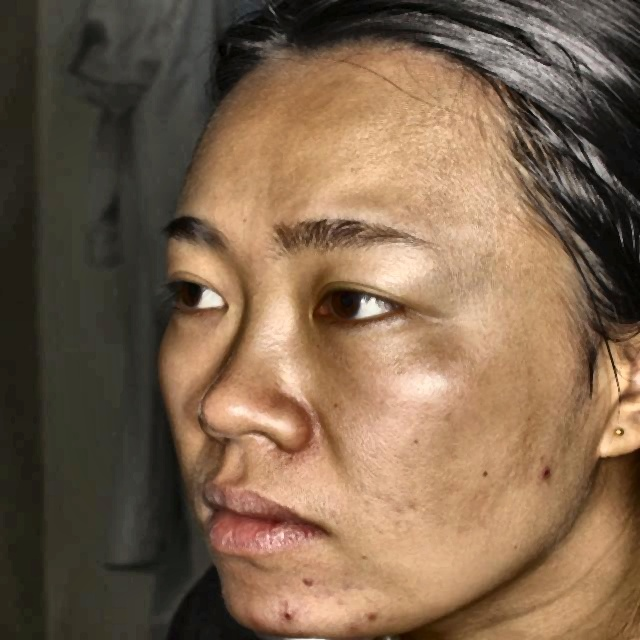comedone: (248, 607, 276, 635), (360, 607, 386, 624)
